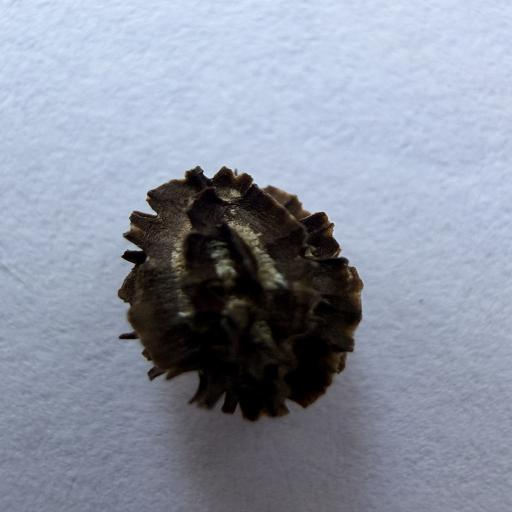papaya_seed: (105, 155, 387, 437)
